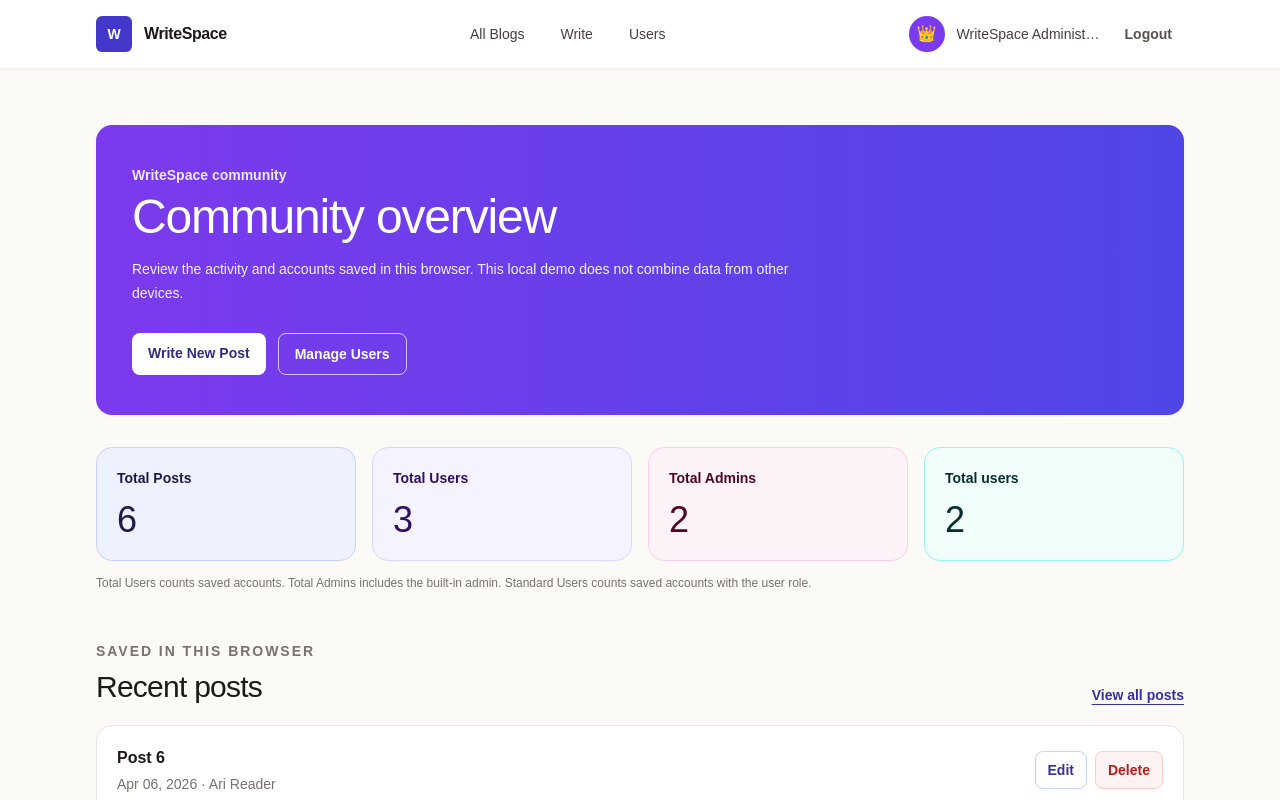
Test: administrator pages › confirms removal of a recent post and updates the dashboard and saved posts
This screenshot has width=1280, height=800.
Click the button "Delete" at {"x": 1129, "y": 770}, box [1095,751,1163,789]
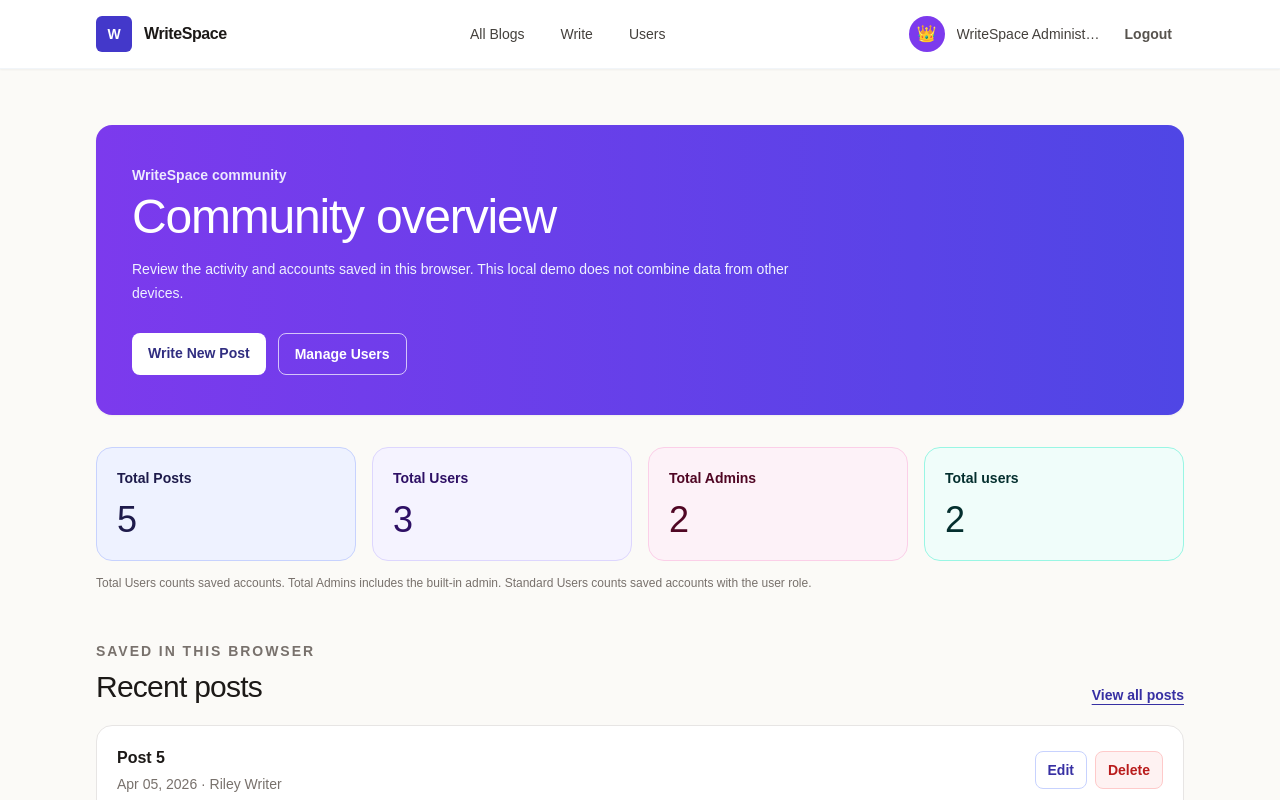
Check: the link "Post 6" is gone
